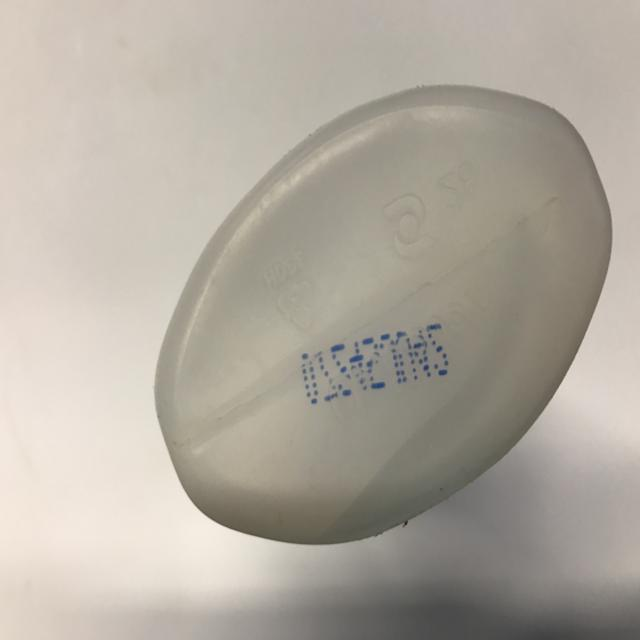plastic: (153, 82, 613, 546)
